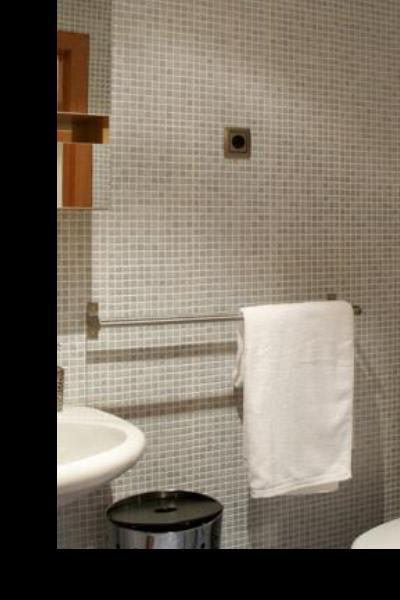Bote de Basura: (105, 493, 224, 600)
Lavamanos: (0, 404, 141, 600)
Sanitario: (353, 393, 400, 600)
